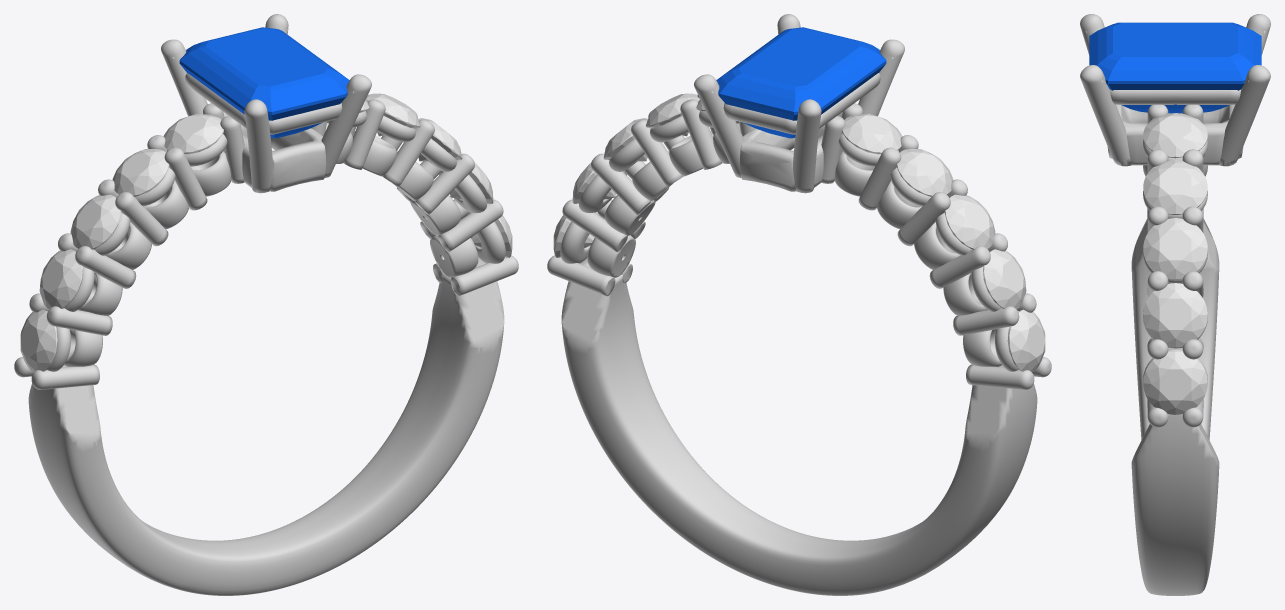
File: bluesapphire-emerald-platinum-4prong-straighttaperedband-11stone.glb
3 views of the same model, side by side, from view 1: azimuth 30°, elevation 25°; view 2: azimuth 150°, elevation 25°; view 3: azimuth 270°, elevation 25° (orthographic).
Parts seen in each view (by area): view 1: metal, stone, side.004, side.003, side.005, side, side.006, side.010; view 2: metal, stone, side.004, side.003, side.005, side, side.006, side.010; view 3: metal, stone, side.008, side.007, side.009, side.010, side.011.
Boxes of the visible parts, x1,y1,x2,y2 form: metal: [14, 14, 518, 595]; stone: [179, 27, 349, 138]; side.004: [70, 194, 121, 249]; side.003: [39, 249, 82, 308]; side.005: [112, 148, 169, 196]; side: [20, 309, 58, 371]; side.006: [163, 113, 223, 154]; side.010: [366, 93, 420, 136]; metal: [547, 14, 1051, 595]; stone: [716, 27, 886, 138]; side.004: [944, 194, 995, 249]; side.003: [983, 249, 1026, 308]; side.005: [896, 148, 953, 196]; side: [1007, 309, 1045, 371]; side.006: [842, 113, 902, 154]; side.010: [645, 93, 699, 136]; metal: [1080, 14, 1270, 595]; stone: [1089, 22, 1261, 113]; side.008: [1143, 283, 1207, 347]; side.007: [1143, 351, 1207, 414]; side.009: [1143, 218, 1207, 279]; side.010: [1143, 160, 1207, 214]; side.011: [1143, 113, 1207, 158].
Size of the model in its own units: 21.87 by 22.75 by 7.4.
